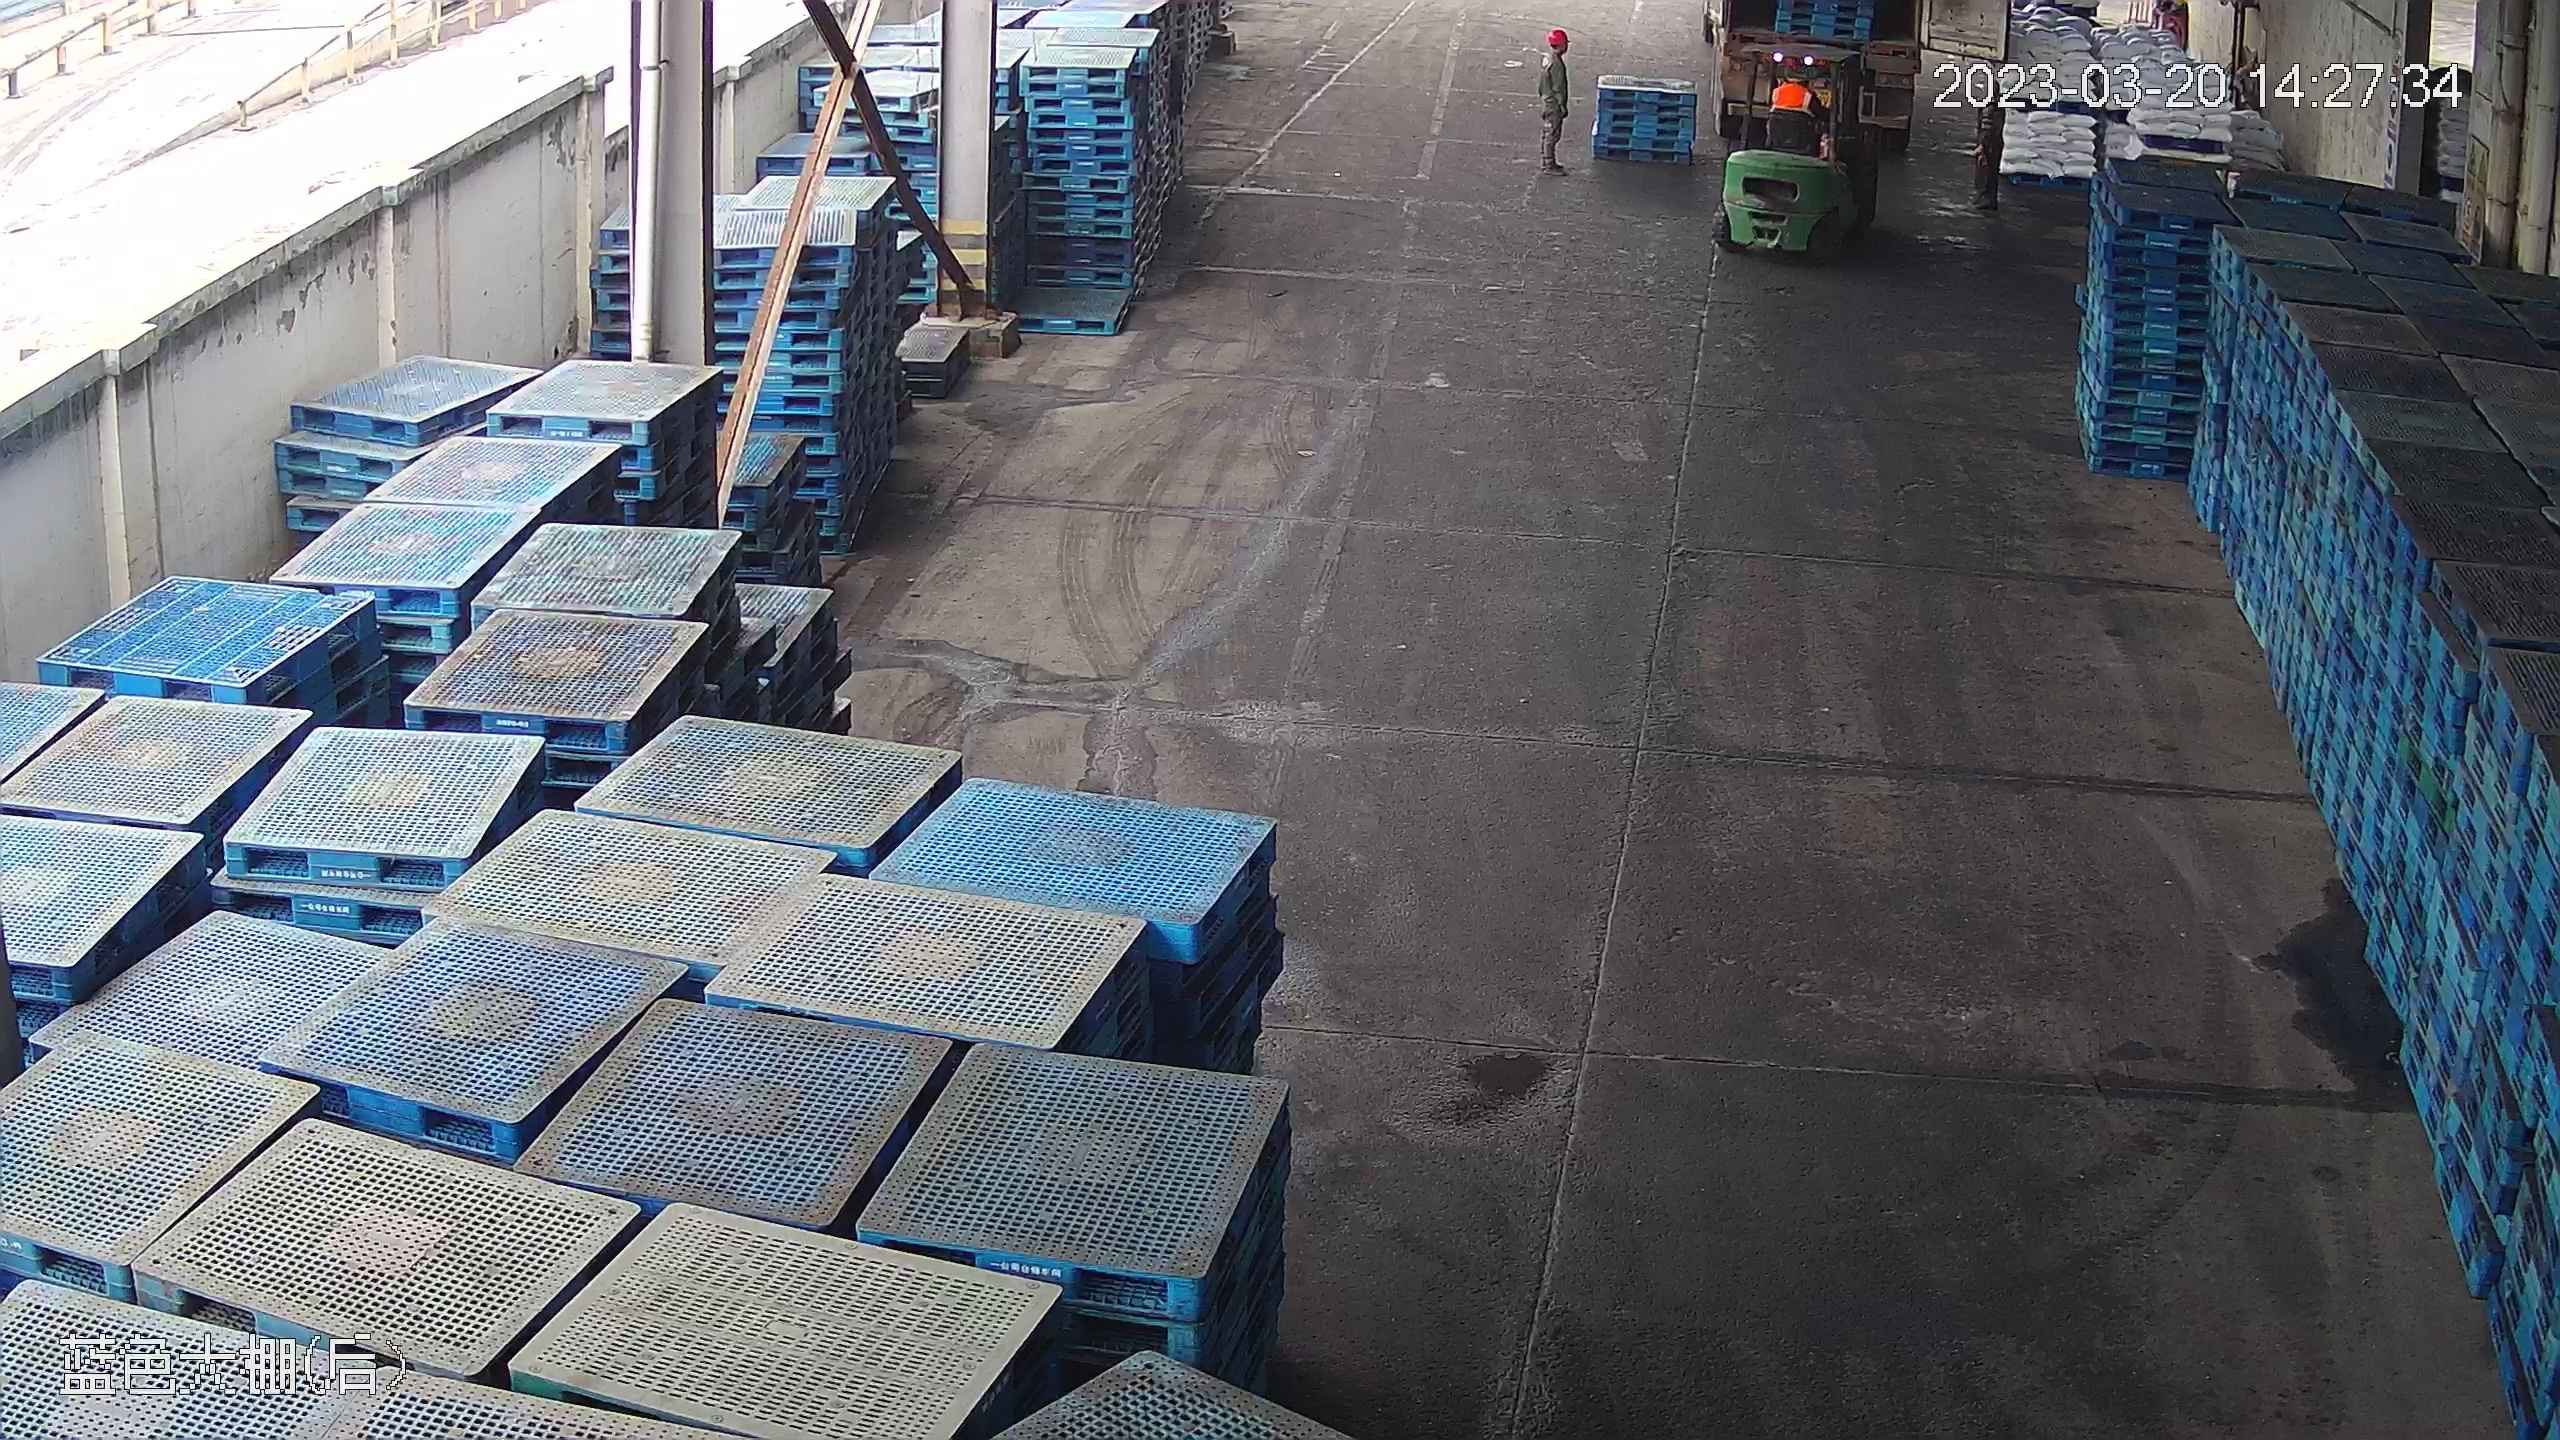head: (1539, 25, 1578, 76)
helmet: (1546, 24, 1570, 45)
people: (1534, 22, 1576, 182)
